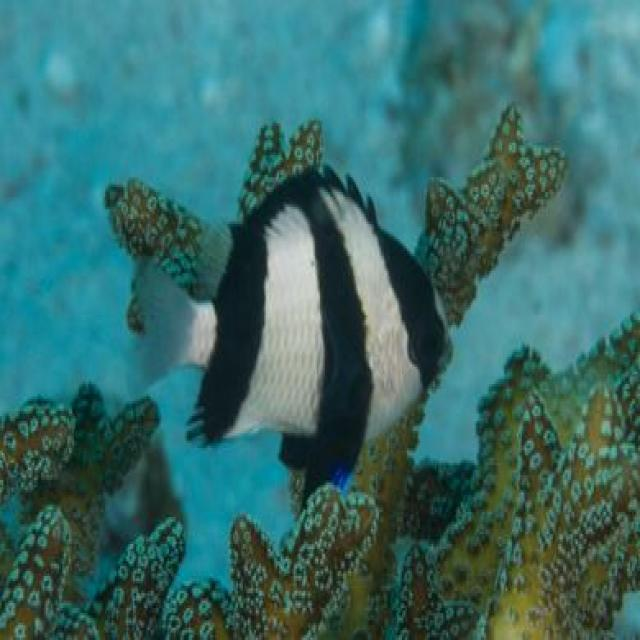Three_striped DasmselFish: (126, 161, 453, 500)
